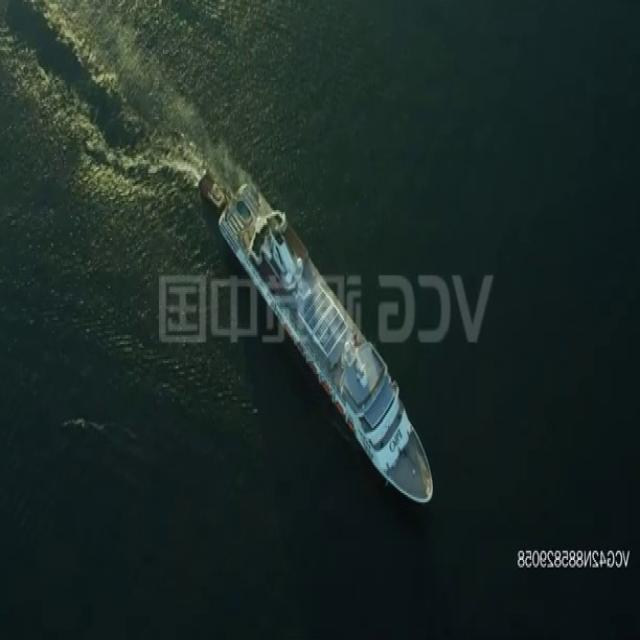passenger ship: (222, 172, 439, 513)
